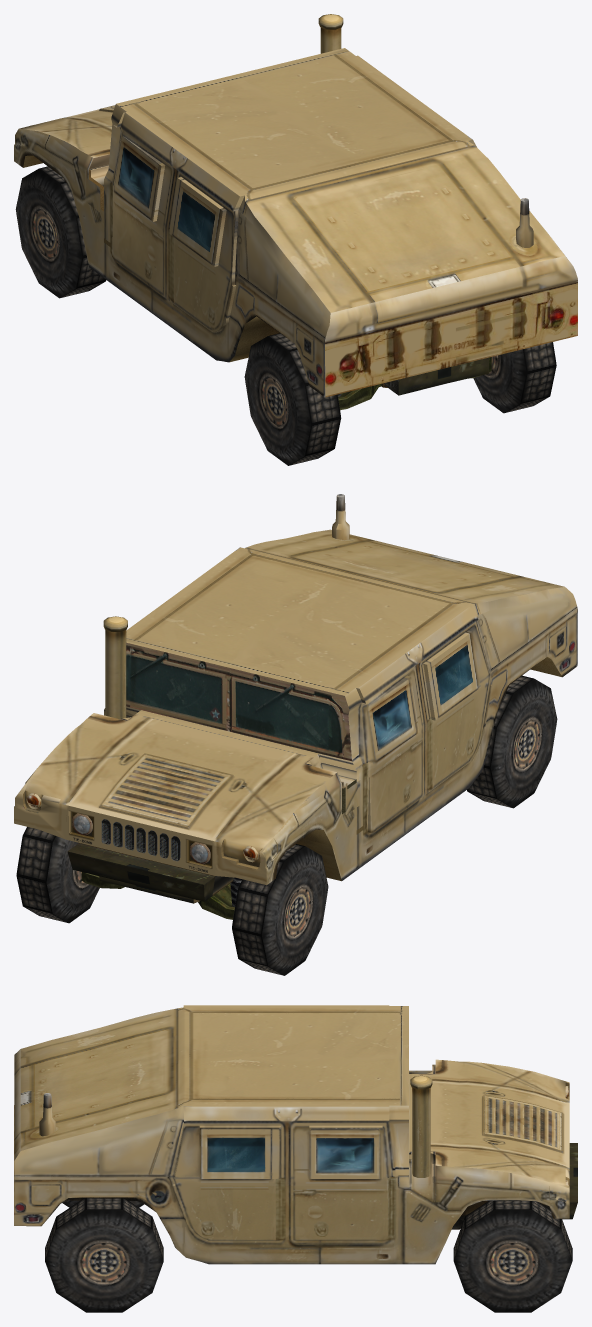
File: hmmwv2.fbx
3 views of the same model, one above another, from view 1: azimuth 30°, elevation 25°; view 2: azimuth 150°, elevation 25°; view 3: azimuth 270°, elevation 25° (orthographic). The views are drawn at different scales.
Parts seen in each view (by area): view 1: geom-Humvee, geom-HVtireRR, geom-HVtireFR, geom-HVtireRR_1, geom-HVtireRL, geom-HVtireRL_1, geom-HVtireFR_1; view 2: geom-Humvee, geom-HVtireFR, geom-HVtireRR, geom-HVtireFR_1, geom-HVtireFL_1, geom-HVtireFL, geom-HVtireRR_1; view 3: geom-Humvee, geom-HVtireFL, geom-HVtireRL, geom-HVtireRL_1, geom-HVtireFL_1.
Boxes of the visible parts, <box> form: geom-Humvee: <box>14,14,577,410</box>; geom-HVtireRR: <box>244,336,340,465</box>; geom-HVtireFR: <box>15,168,82,298</box>; geom-HVtireRR_1: <box>268,333,341,465</box>; geom-HVtireRL: <box>473,343,556,413</box>; geom-HVtireRL_1: <box>504,342,556,413</box>; geom-HVtireFR_1: <box>39,166,106,297</box>; geom-Humvee: <box>14,494,577,919</box>; geom-HVtireFR: <box>232,846,328,975</box>; geom-HVtireRR: <box>490,678,557,808</box>; geom-HVtireFR_1: <box>232,844,304,975</box>; geom-HVtireFL_1: <box>16,827,68,923</box>; geom-HVtireFL: <box>17,836,99,923</box>; geom-HVtireRR_1: <box>467,675,533,807</box>; geom-Humvee: <box>14,1005,577,1264</box>; geom-HVtireFL: <box>453,1210,572,1312</box>; geom-HVtireRL: <box>45,1210,163,1312</box>; geom-HVtireRL_1: <box>45,1198,163,1260</box>; geom-HVtireFL_1: <box>453,1201,572,1260</box>.
Bounding box in the file's own units: 2.43 × 4.98 × 2.22.
